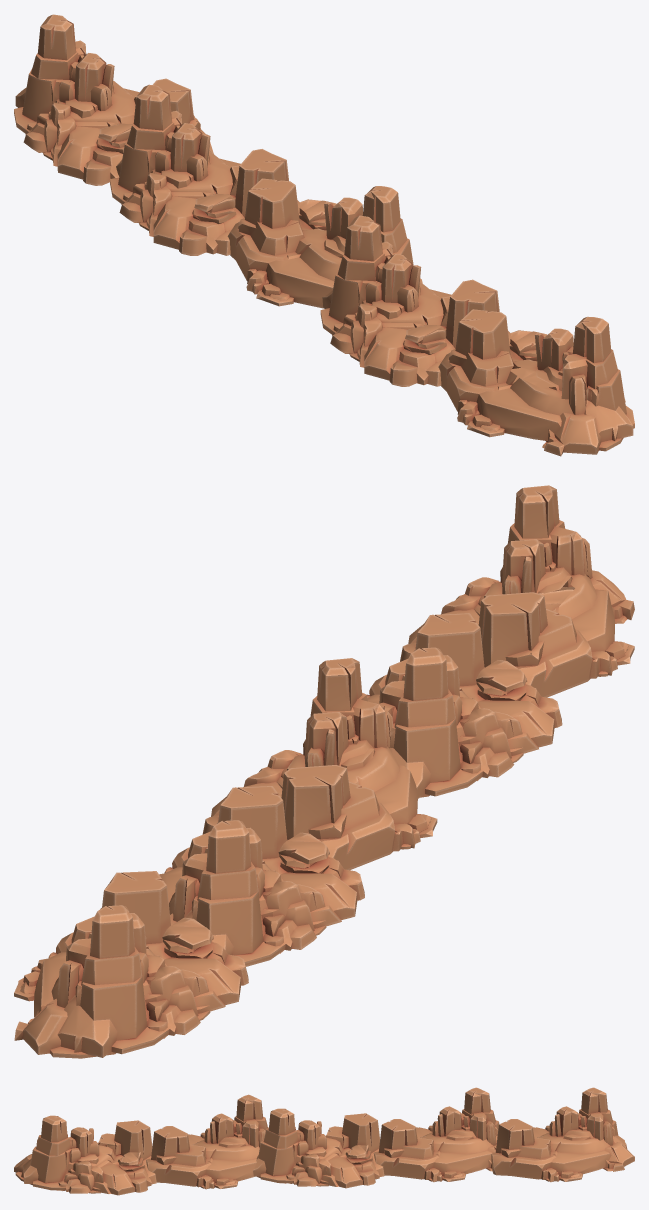
Rendered from Rock00.fbx.
3 renders of one model, top to bottom at view 1: azimuth 30°, elevation 25°; view 2: azimuth 150°, elevation 25°; view 3: azimuth 270°, elevation 25°, orthographic. The views are drawn at different scales.
Parts seen in each view (by area): view 1: Rock00; view 2: Rock00; view 3: Rock00.
Part boxes in pixels (bbox=[...]): Rock00: bbox=[14, 14, 634, 456]; Rock00: bbox=[14, 485, 634, 1058]; Rock00: bbox=[14, 1087, 634, 1195].
Size of the model in its own units: 2738 by 1422 by 12289.
